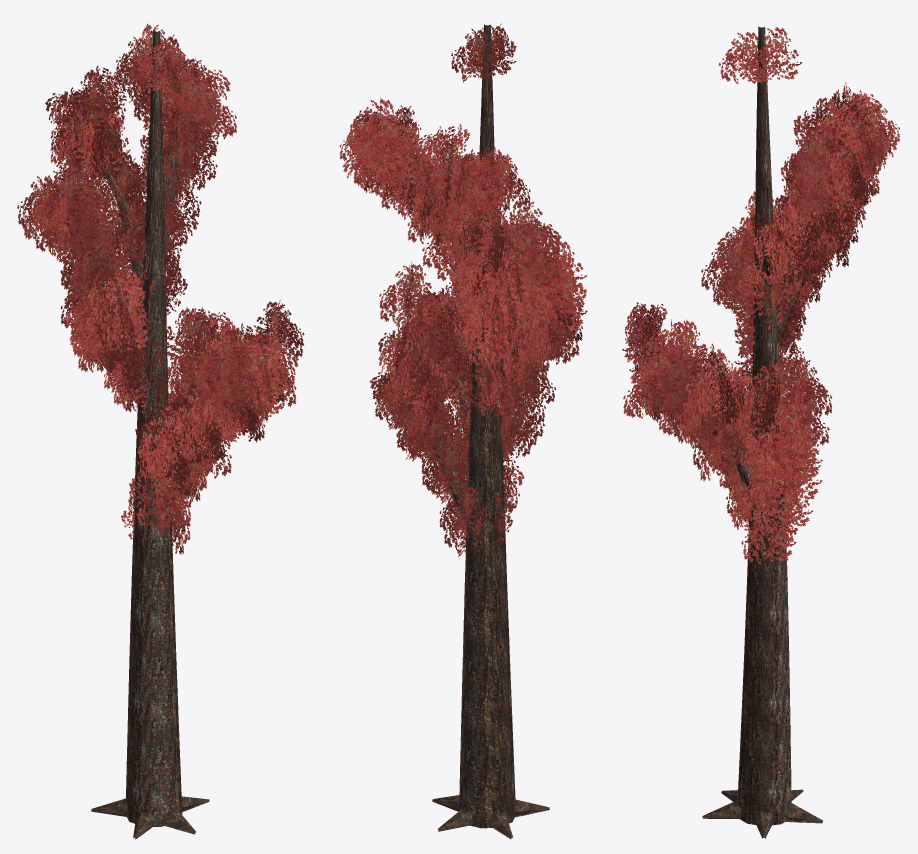
File: tree_3d_02_red_lod0.glb
The picture shows the model from 3 angles, left to right: view 1: azimuth 30°, elevation 25°; view 2: azimuth 150°, elevation 25°; view 3: azimuth 270°, elevation 25°; orthographic projection.
Parts seen in each view (by area): view 1: foliage_cards, wood_geometry; view 2: foliage_cards, wood_geometry; view 3: foliage_cards, wood_geometry.
Part boxes in pixels (left/top/right/bottom): foliage_cards: left=17, top=23, right=304, bottom=554; wood_geometry: left=61, top=30, right=270, bottom=839; foliage_cards: left=339, top=23, right=587, bottom=557; wood_geometry: left=384, top=24, right=549, bottom=839; foliage_cards: left=622, top=27, right=899, bottom=566; wood_geometry: left=681, top=26, right=871, bottom=838.
Size of the model in its own units: 3.82 by 12.59 by 4.1.
Materials: 2 (2 with a texture image).
